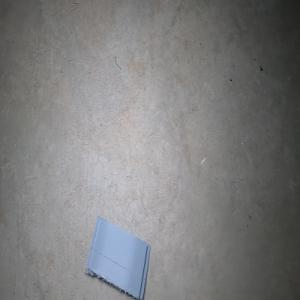PlasticPart: (84, 215, 151, 300)
